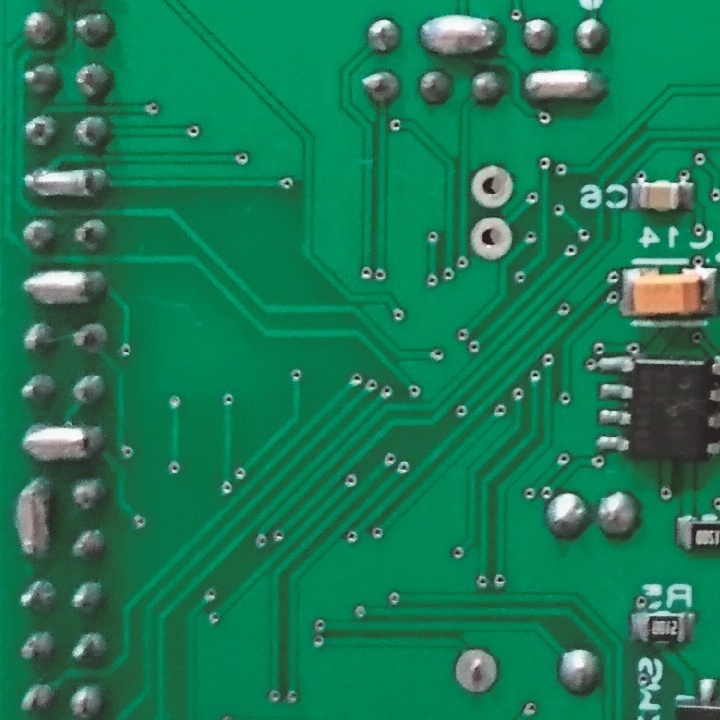F: (451, 643, 500, 696), (470, 163, 516, 212), (468, 214, 514, 263)
P: (11, 475, 58, 565), (19, 421, 110, 467), (417, 15, 502, 60), (523, 66, 610, 109), (23, 269, 110, 309), (22, 166, 111, 201)
